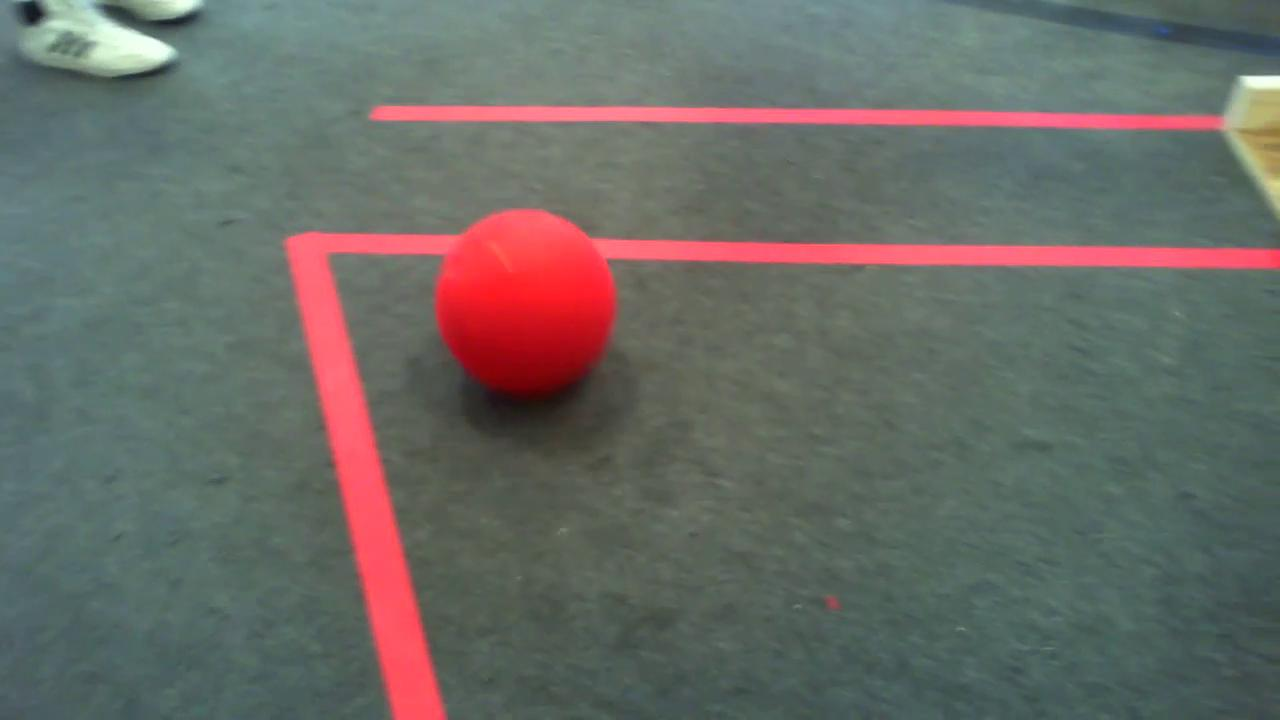Red_Ball: (402, 187, 639, 413)
